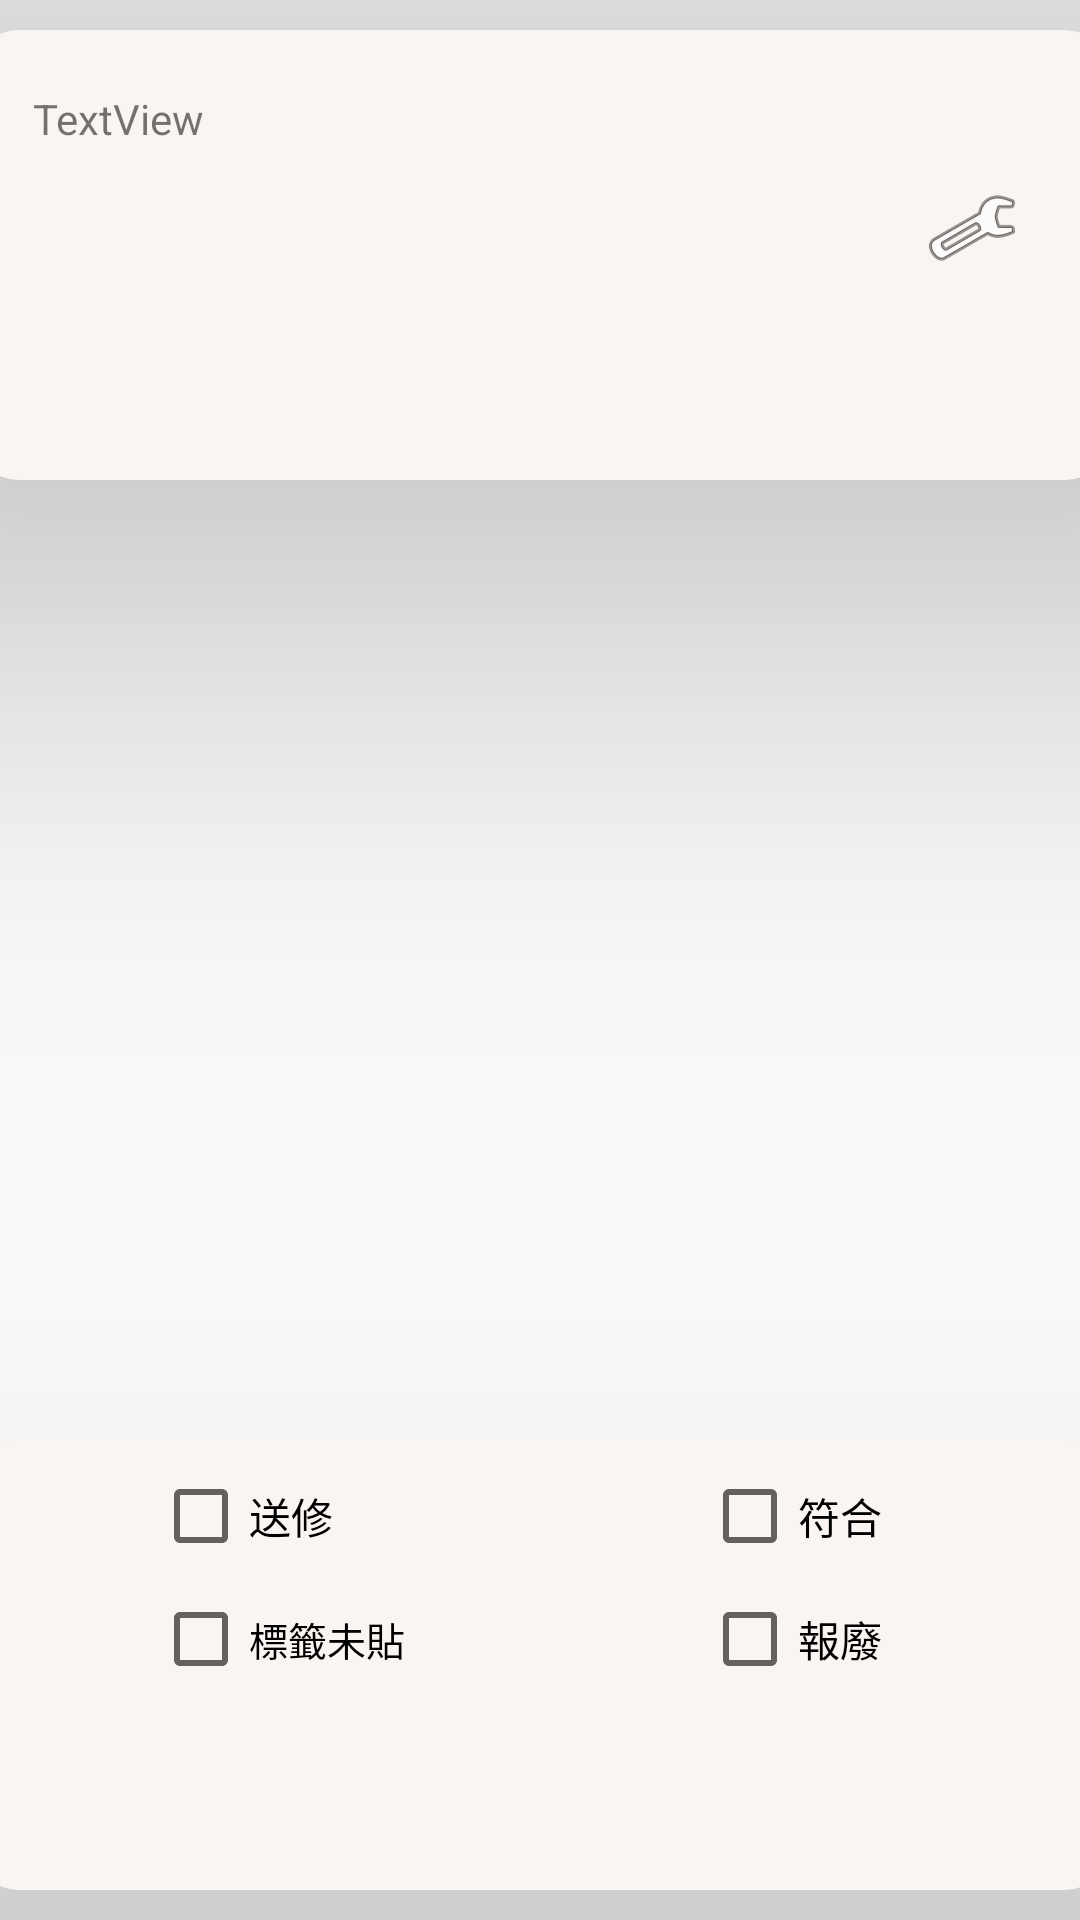

Screen size 1080w x 1920h. Icon name, then its box in pixels as (x1,y1,x2,y2):
manage: (929,195,1015,261)
